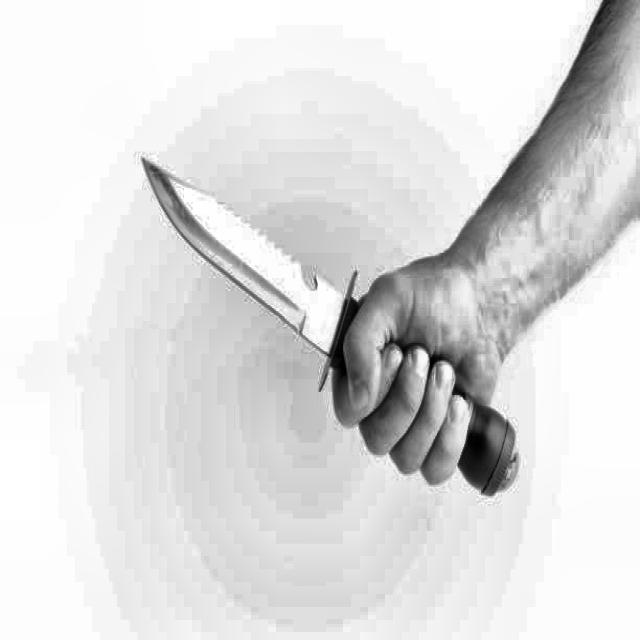pisau: (136, 148, 526, 503)
